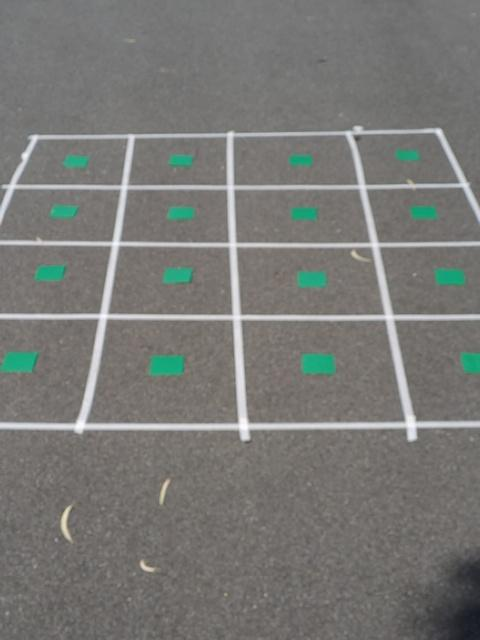weed: (0, 350, 41, 374), (301, 352, 338, 377), (148, 353, 186, 377), (34, 263, 68, 282), (162, 266, 195, 285), (296, 270, 329, 289), (433, 268, 467, 286), (458, 348, 480, 374), (164, 205, 196, 222), (46, 204, 80, 219), (408, 205, 439, 220), (289, 206, 318, 221), (167, 153, 194, 167), (394, 149, 422, 162), (61, 155, 92, 166), (287, 154, 314, 166)
